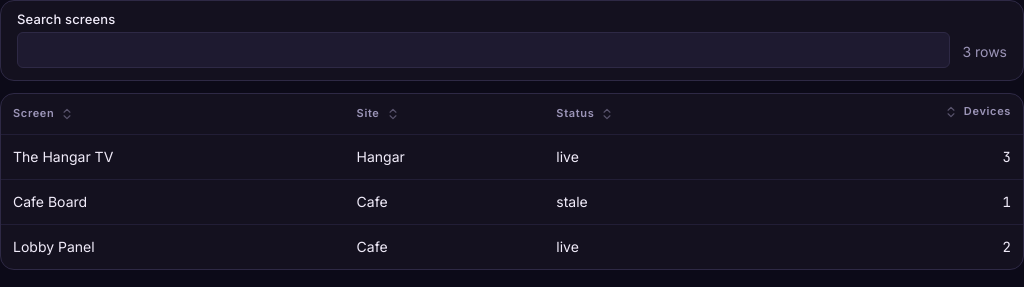
Test: DataTable — search › announces the match count in a live region and restores it when cleared
This screenshot has width=1024, height=287.
Expected: the text "3 rows" is shown, [962, 42, 1007, 68]
In the search field labelled "Search screens": (484, 50) [17, 32, 950, 68], type "cafe"
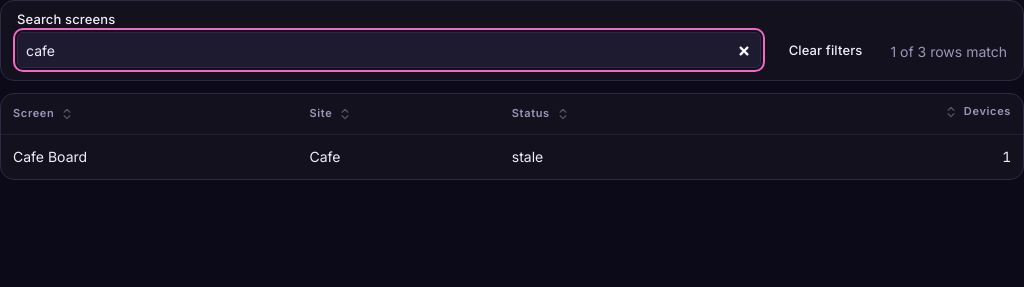
Result: the text "1 of 3 rows match" is shown at [890, 42, 1007, 68]
Clear the search field labelled "Search screens": (389, 50) [17, 32, 761, 68]
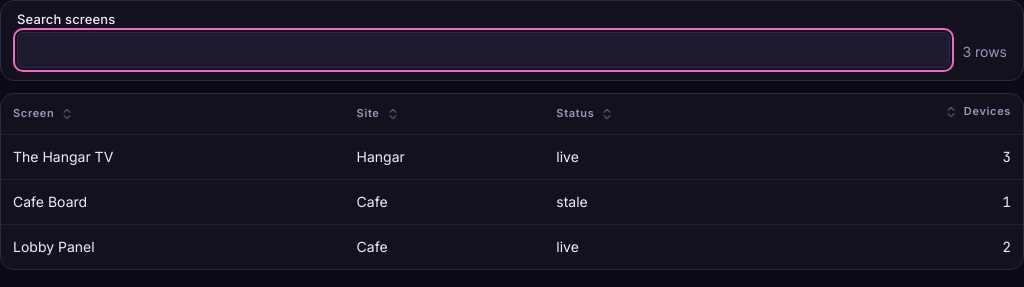
Result: the text "3 rows" is shown at [962, 42, 1007, 68]
Result: the text "The Hangar TV" is shown at [1, 134, 345, 179]
